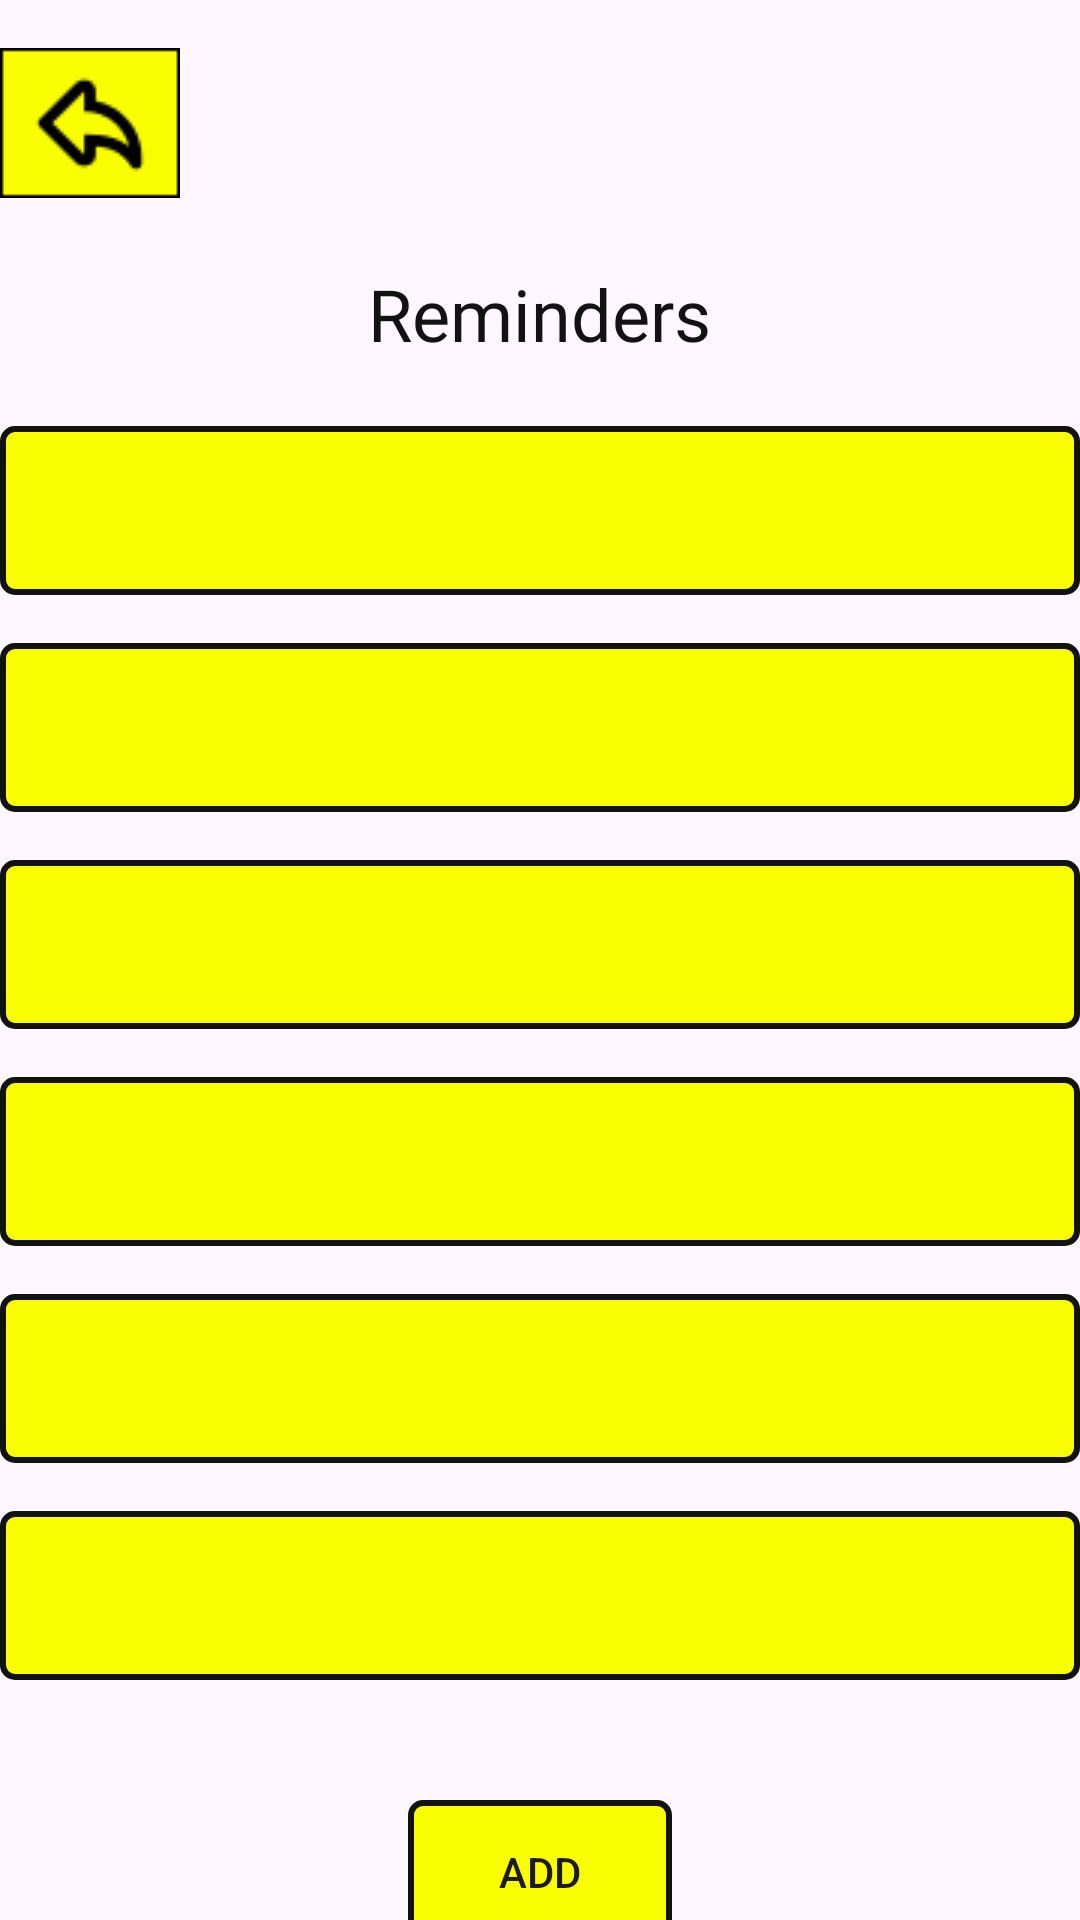

Icon bounding boxes for this 1080w x 1920h phone screenshot, format (x1, y1, x2, y2):
previous page: (0, 48, 180, 198)
